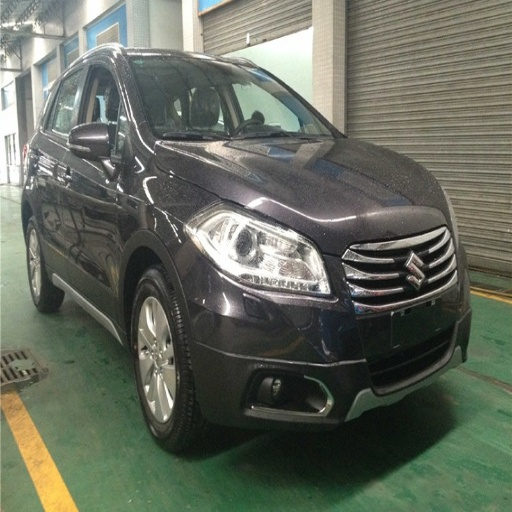front_bumper: (177, 254, 469, 423)
front_right_door: (63, 52, 126, 312)
front_right_light: (185, 197, 335, 297)
